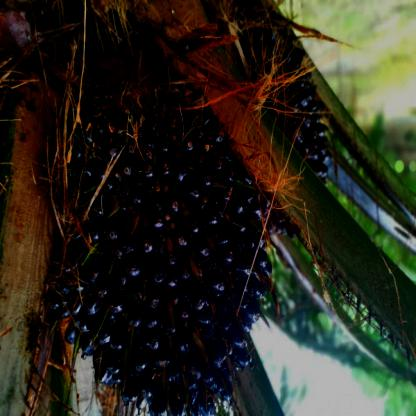palm-oil: (53, 88, 282, 415), (240, 30, 338, 248)
